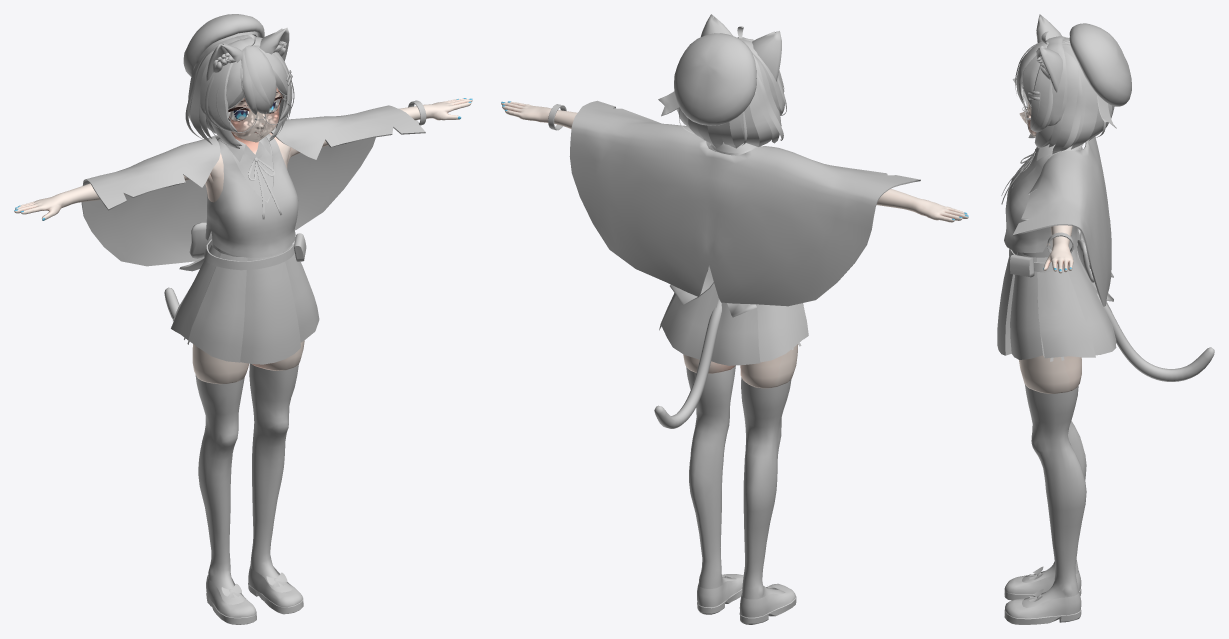
File: koharu.obj
The picture shows the model from 3 angles, left to right: view 1: azimuth 30°, elevation 25°; view 2: azimuth 150°, elevation 25°; view 3: azimuth 270°, elevation 25°; orthographic projection. The views are drawn at different scales.
Parts seen in each view (by area): view 1: Body_큐브.002; view 2: Body_큐브.002; view 3: Body_큐브.002.
Boxes of the visible parts, <box> form: Body_큐브.002: <box>14,14,472,624</box>; Body_큐브.002: <box>501,14,968,624</box>; Body_큐브.002: <box>997,14,1214,624</box>.
Bounding box in the file's own units: 1.01 × 1.21 × 0.4116.
